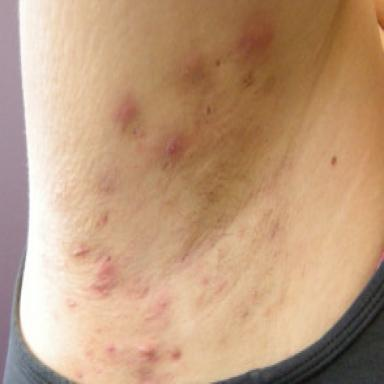acne: (239, 21, 273, 56), (91, 254, 118, 295), (113, 95, 139, 135), (178, 53, 202, 78), (137, 339, 157, 362), (100, 167, 115, 194), (165, 136, 183, 157), (72, 242, 91, 257), (263, 73, 276, 94), (167, 347, 181, 361), (157, 293, 171, 307), (97, 211, 109, 227), (103, 342, 116, 355), (66, 298, 77, 309), (205, 105, 211, 115)
